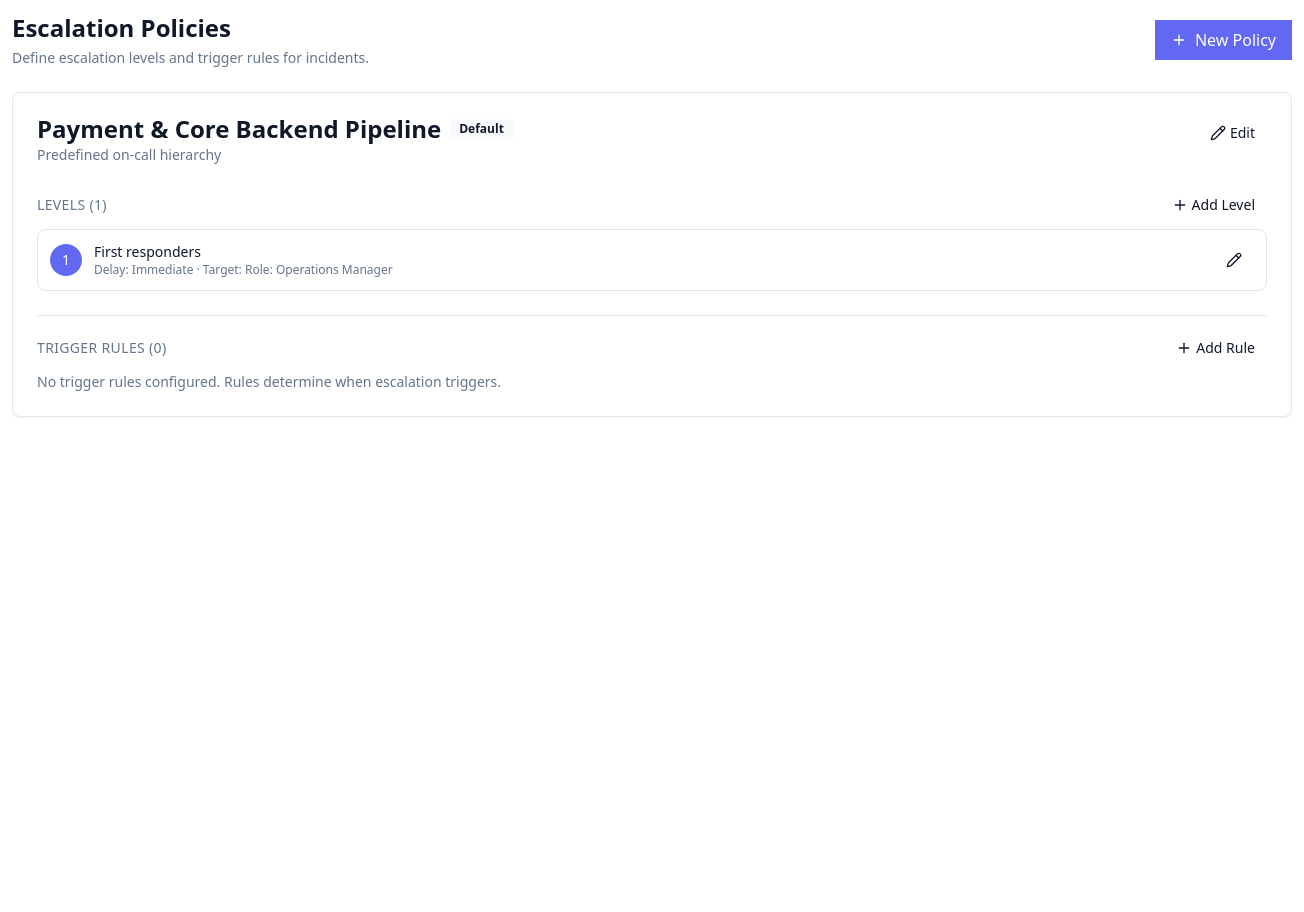
EscalationPoliciesPage — Escalation Level Role Assignment UX › validates that a role is selected when target is Role
Click the button "Add Level": {"x": 1213, "y": 205} [1160,189,1267,221]
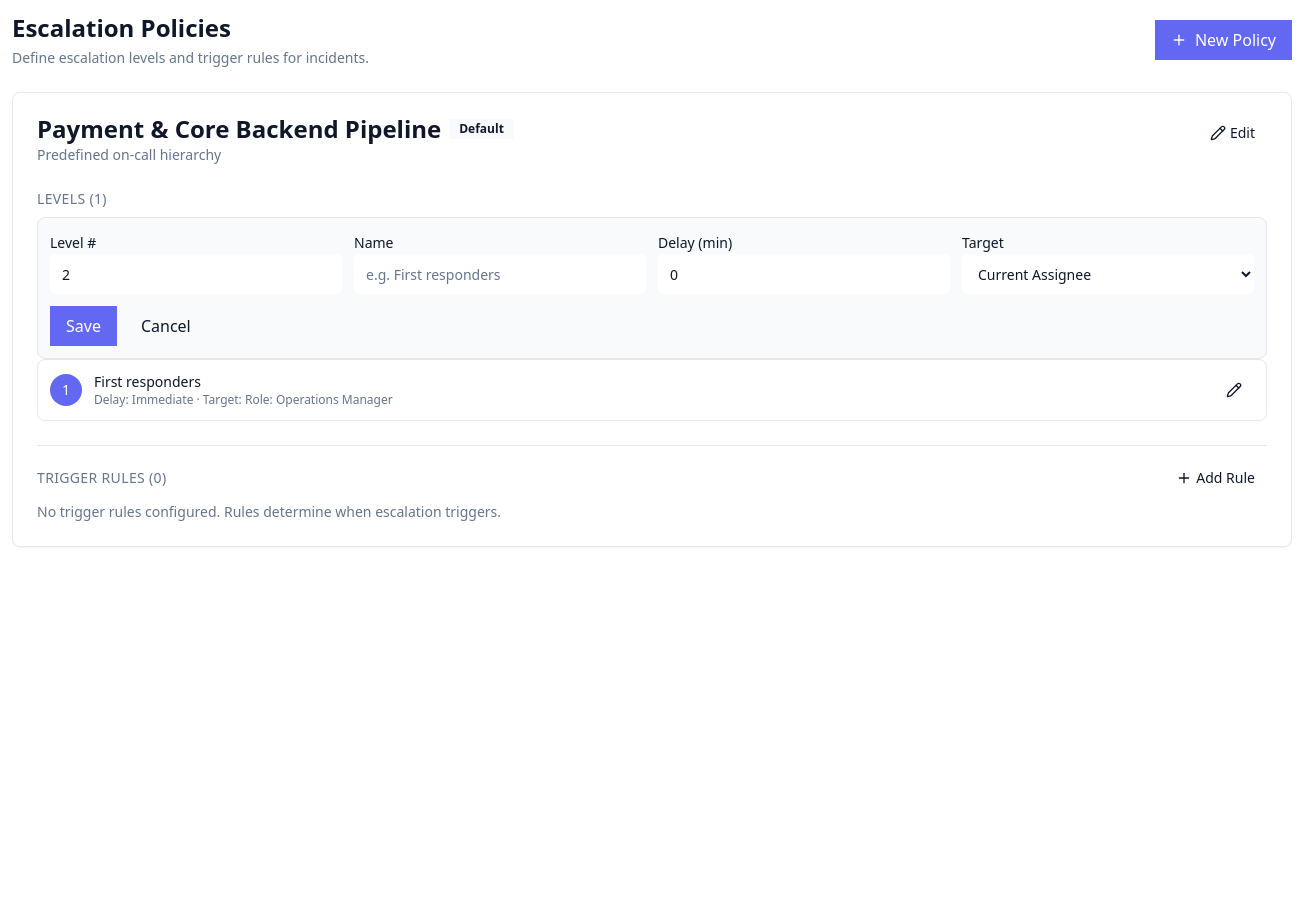
In the field with placeholder "e.g. First responders": {"x": 500, "y": 274} [354,254,646,294], type "Secondary Escalation"
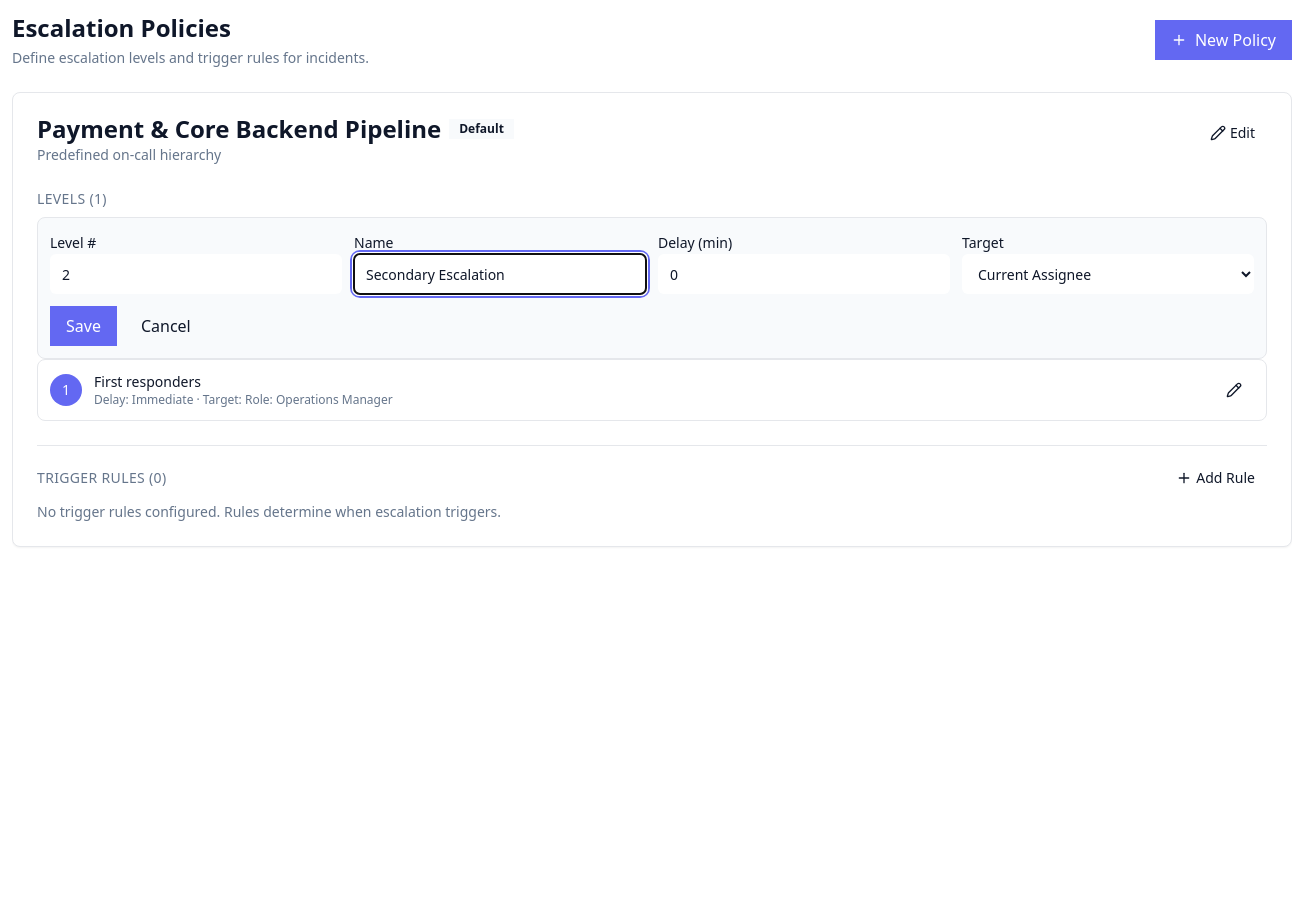
Select "Role" in the dropdown labelled "Target": {"x": 1108, "y": 274} [962,254,1254,294]
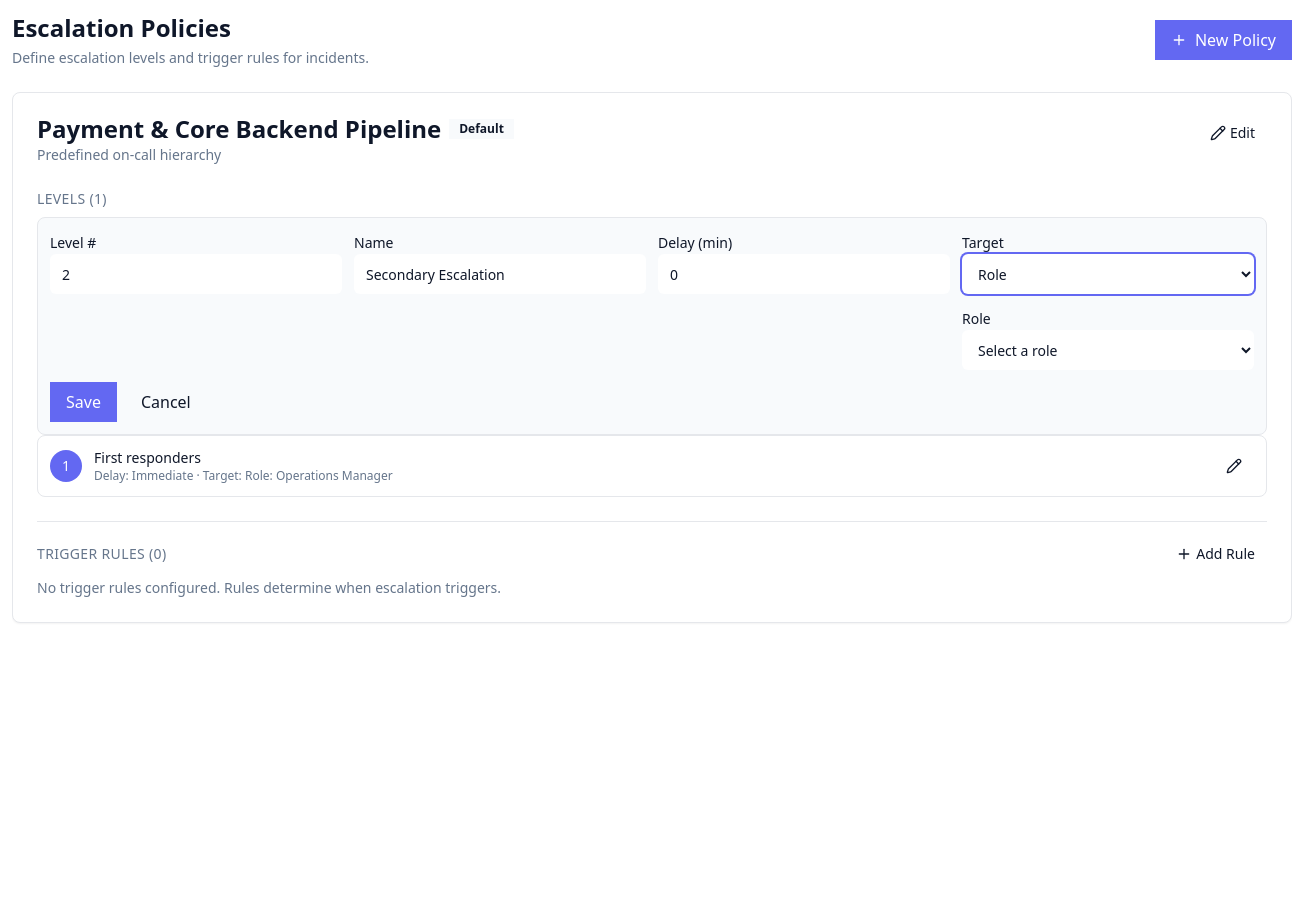
// Attempt to submit without choosing a role
Click the button "Save": {"x": 83, "y": 402} [50,382,117,422]
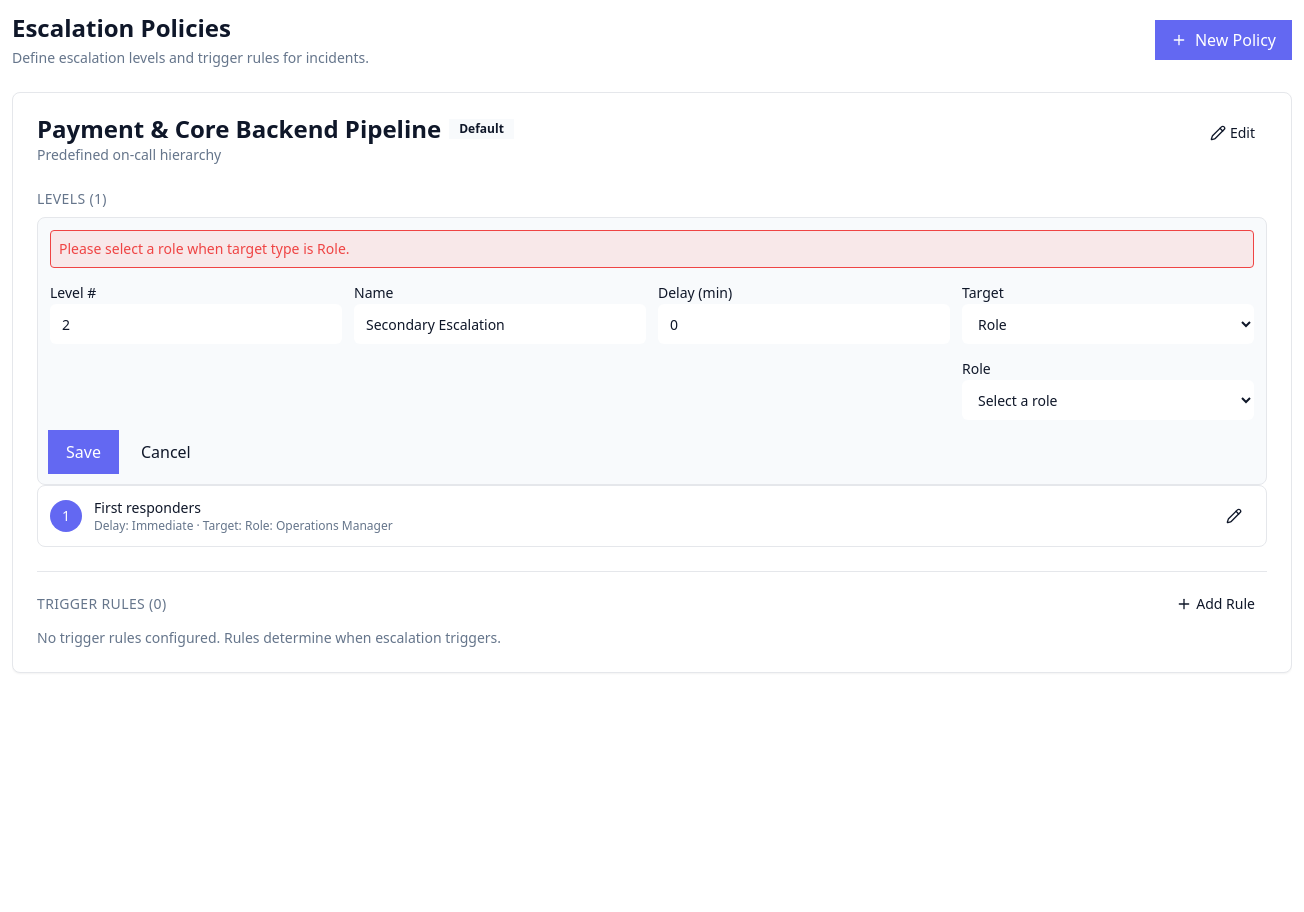
expect the message shows "Please select a role when target type is Role": met, box [59,239,350,258]
